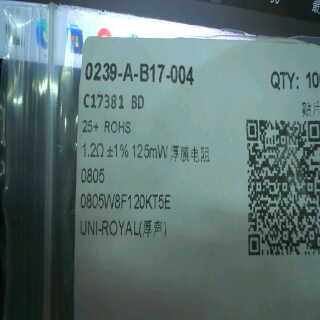1.2R: (80, 138, 105, 189)
